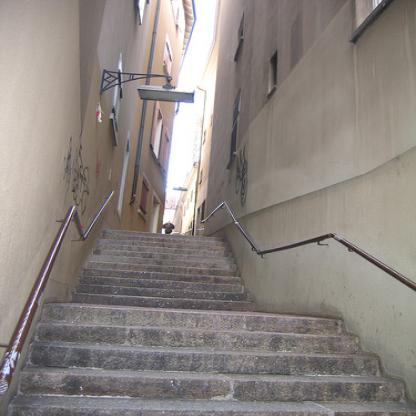stairs: (61, 306, 278, 416)
